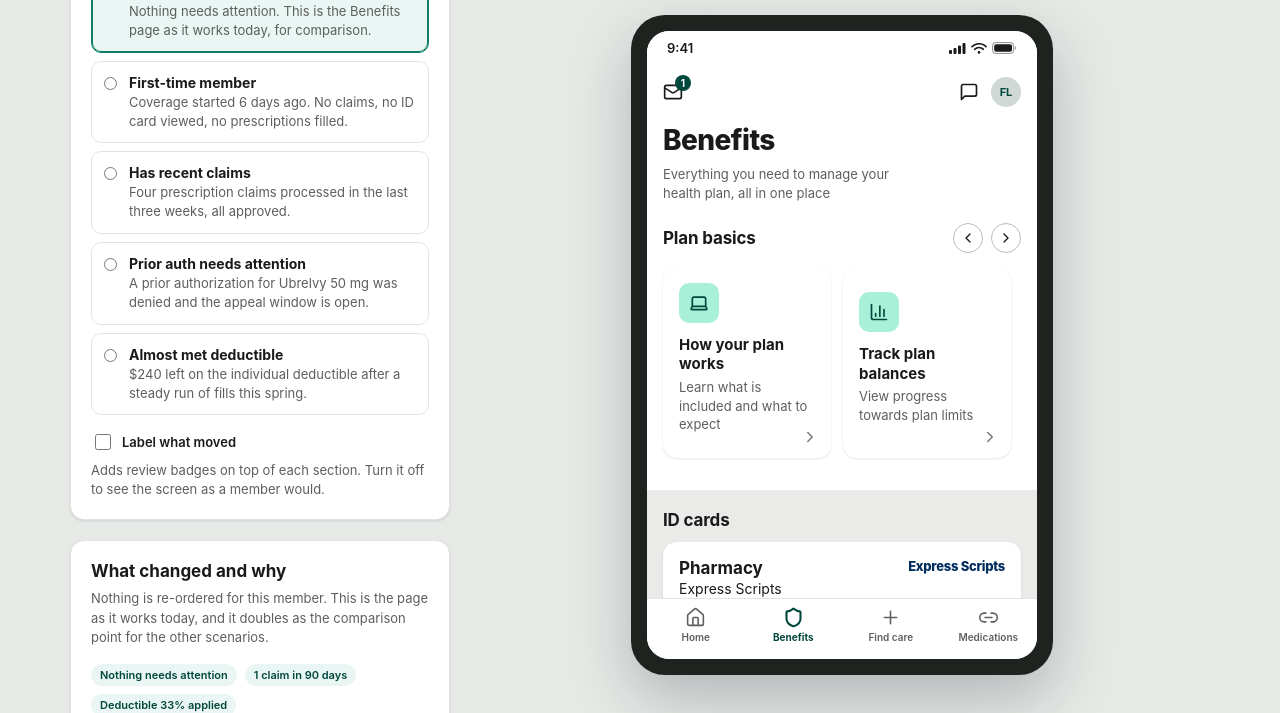
Scenario: sub-pages › shows plan balances that follow the selected member context
(page scrolled)
What coordinates should you click on to do the following:
click the radio button labelled "Almost met deductible"
I would click on:
 (110, 355)
Its box is [104,349,117,362].
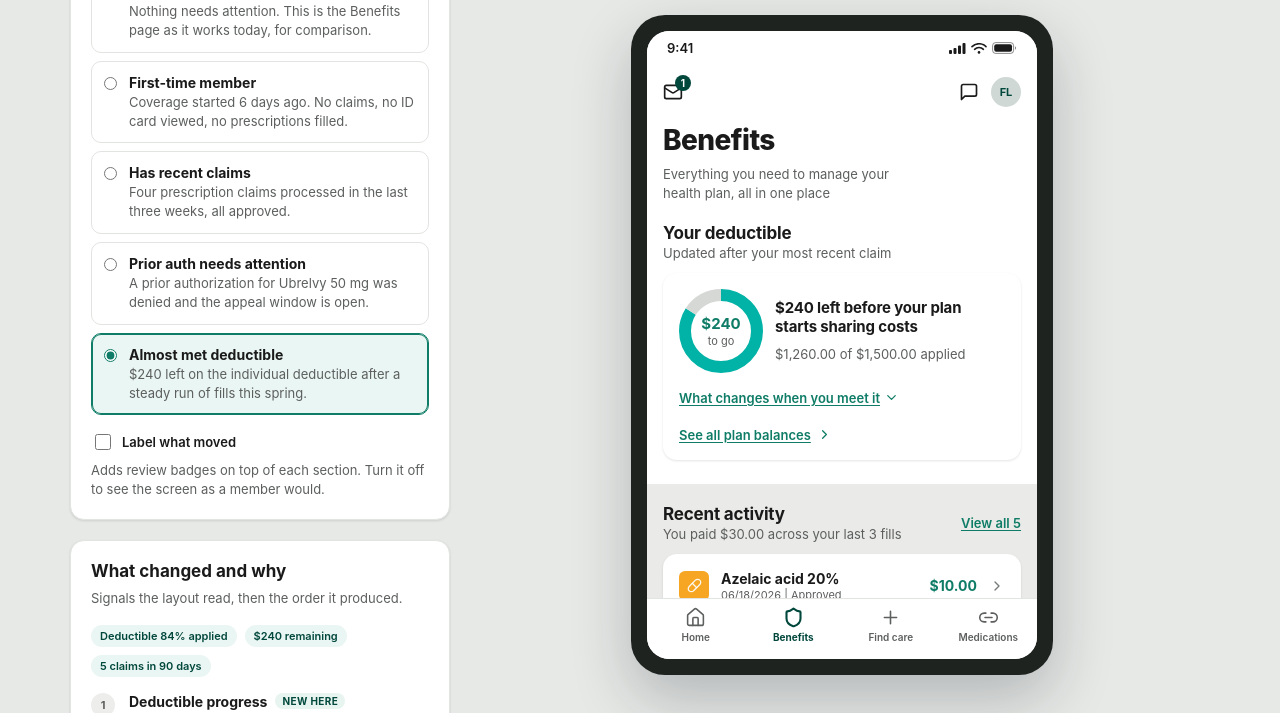
What coordinates should you click on to do the following:
click the button "See all plan balances"
I would click on:
 (755, 435)
Its box is [679,427,832,443].
(page scrolled)
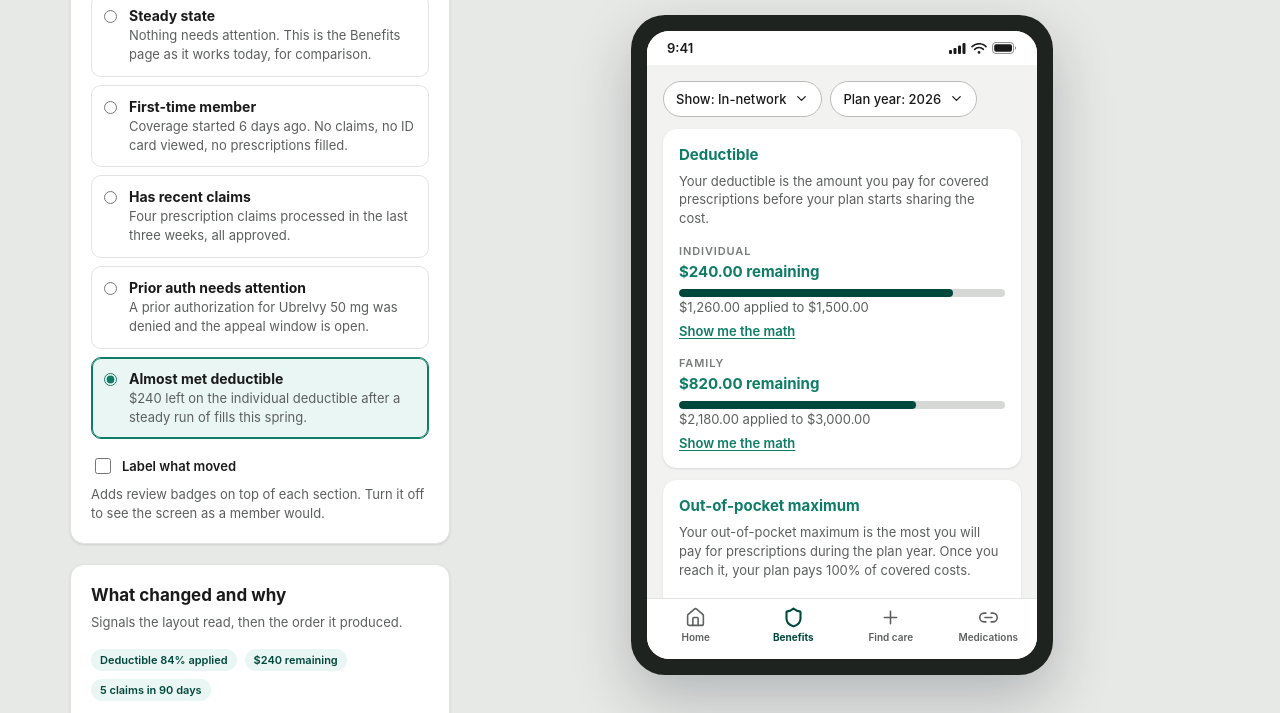
Now the text "$240.00 remaining" is shown, box [679,262,820,281]
Now the text "$1,260.00 applied to $1,500.00" is shown, box [679,299,869,315]
Now the button "Show me the math" below "$1,260.00" is shown, box [679,323,795,339]
